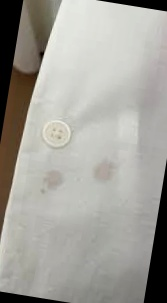wine: (32, 172, 65, 199), (88, 153, 117, 181)
